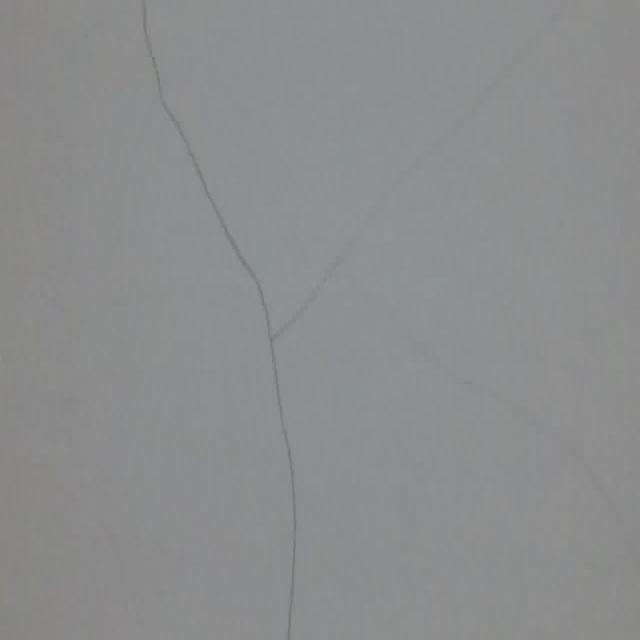Crack: (131, 0, 347, 636)
